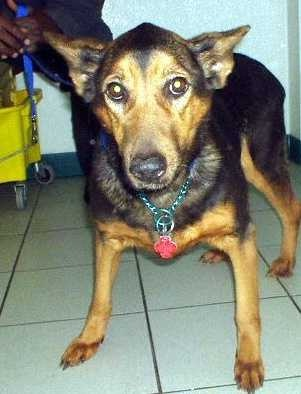dog: (37, 24, 301, 394)
